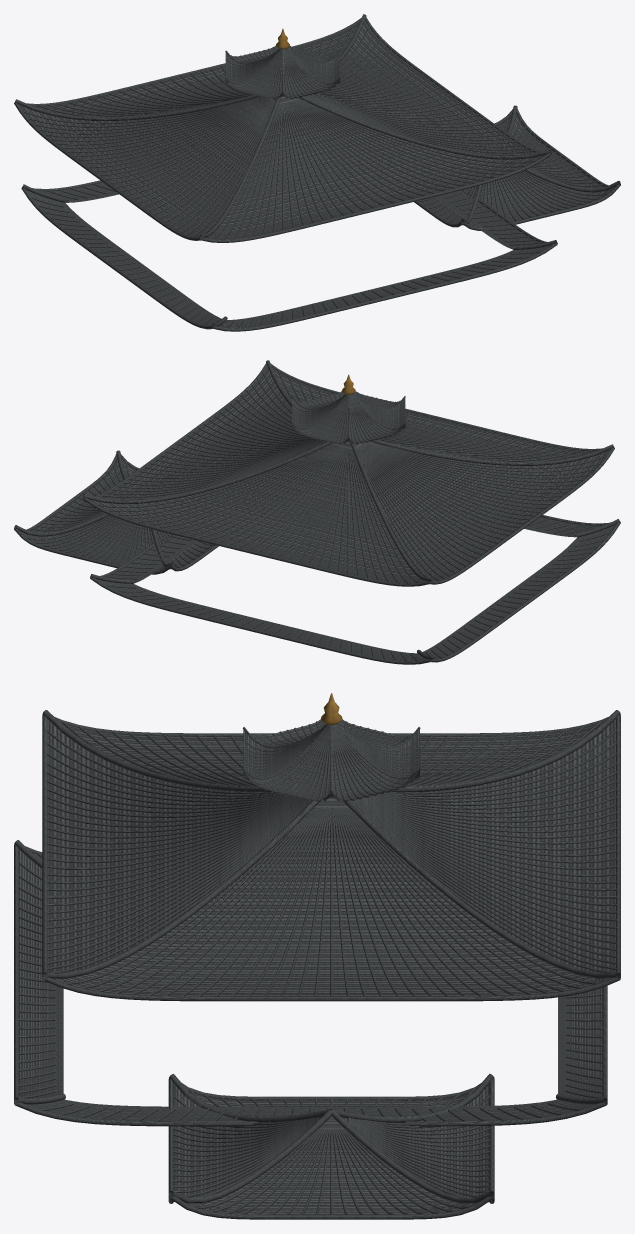
Rendered from tea_roofs.glb.
3 renders of one model, top to bottom at view 1: azimuth 30°, elevation 25°; view 2: azimuth 150°, elevation 25°; view 3: azimuth 270°, elevation 25°, orthographic. The views are drawn at different scales.
Parts seen in each view (by area): view 1: tea_roofs0, tea_roofs1, tea_roofs2; view 2: tea_roofs0, tea_roofs1, tea_roofs2; view 3: tea_roofs0, tea_roofs1, tea_roofs2.
Part boxes in pixels (x1=…): tea_roofs0: x1=14, y1=14, x2=551, y2=242; tea_roofs1: x1=14, y1=96, x2=620, y2=331; tea_roofs2: x1=225, y1=29, x2=469, y2=223; tea_roofs0: x1=82, y1=360, x2=614, y2=586; tea_roofs1: x1=14, y1=440, x2=620, y2=664; tea_roofs2: x1=291, y1=374, x2=405, y2=443; tea_roofs0: x1=42, y1=710, x2=620, y2=1001; tea_roofs1: x1=14, y1=710, x2=608, y2=1219; tea_roofs2: x1=169, y1=693, x2=420, y2=1106.
Bounding box in the file's own units: 21.84 × 9.14 × 16.09.
Materials: 1 (1 with a texture image).
